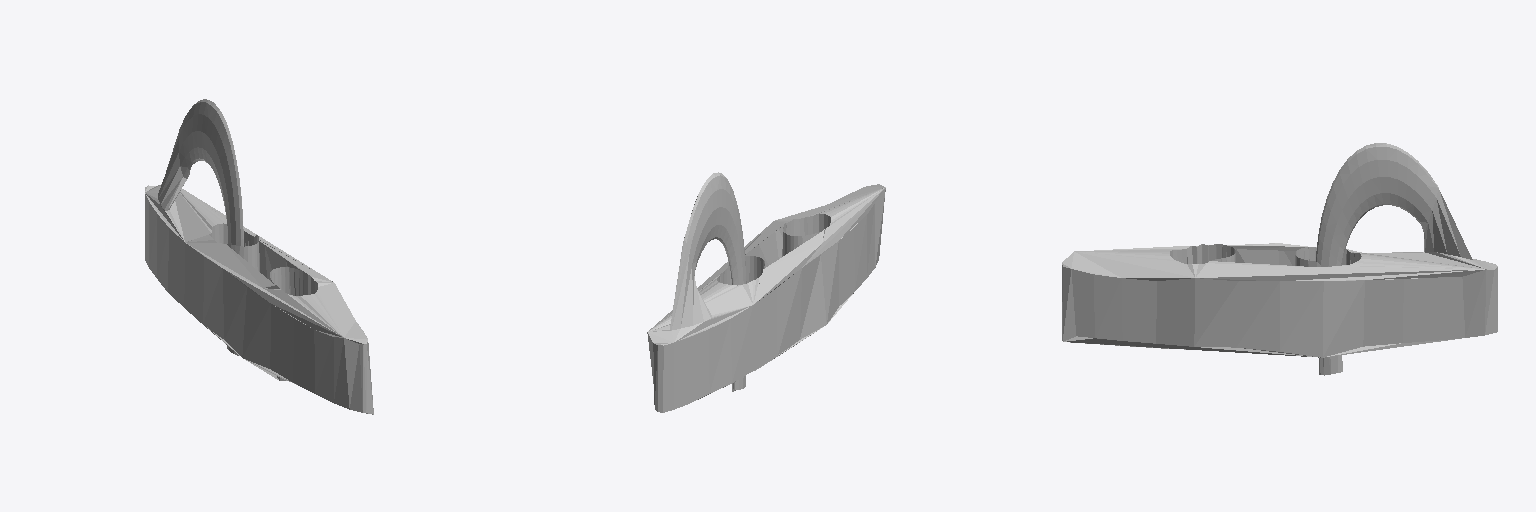
The model's file is deepCutHoleTest_deepBed.obj.
3 views of the same model, side by side, from view 1: azimuth 30°, elevation 25°; view 2: azimuth 150°, elevation 25°; view 3: azimuth 270°, elevation 25° (orthographic).
Size of the model in its own units: 2.12 by 6.49 by 11.06.